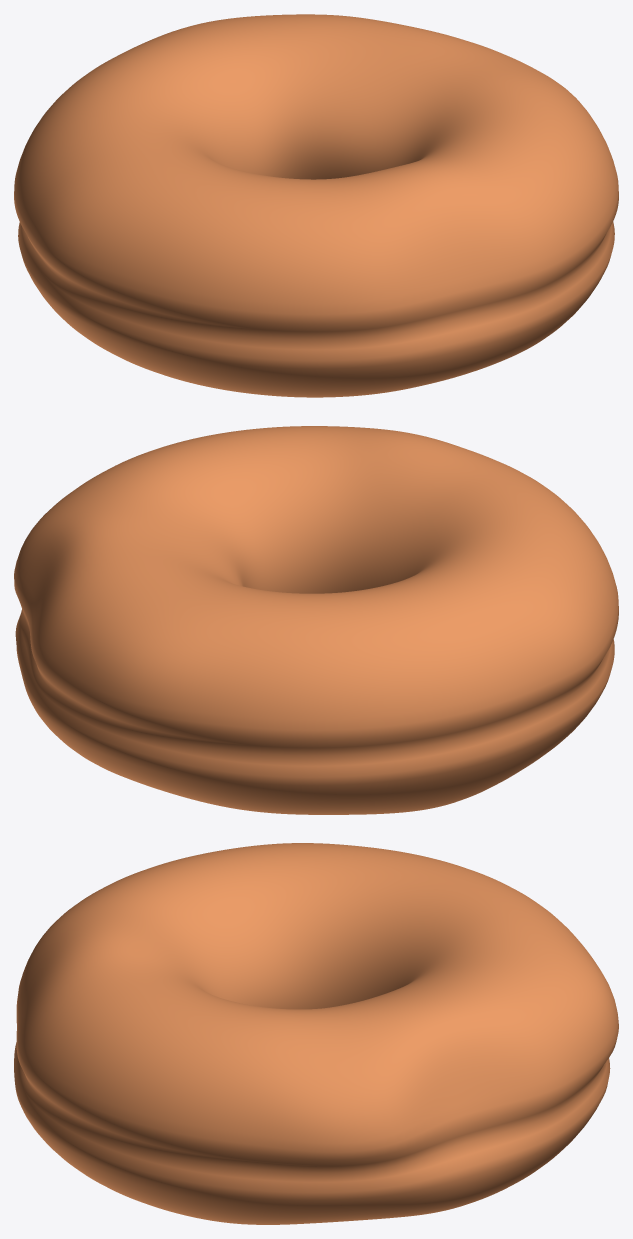
The model's file is donut.gltf.
3 renders of one model, top to bottom at view 1: azimuth 30°, elevation 25°; view 2: azimuth 150°, elevation 25°; view 3: azimuth 270°, elevation 25°, orthographic.
Parts seen in each view (by area): view 1: donut-node; view 2: donut-node; view 3: donut-node.
Boxes of the visible parts, bbox=[...] form: donut-node: bbox=[14, 14, 618, 397]; donut-node: bbox=[14, 426, 618, 814]; donut-node: bbox=[14, 843, 618, 1224].
Bounding box in the file's own units: 0.101 × 0.0391 × 0.0987.
